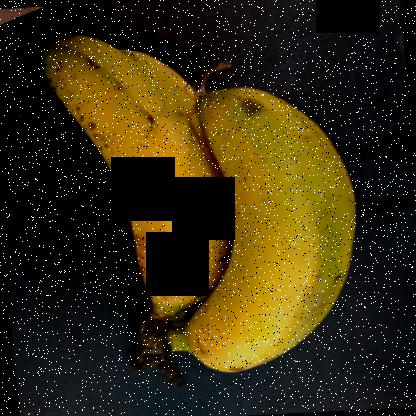freshripe: (199, 62, 367, 378)
ripe: (19, 17, 242, 319)
